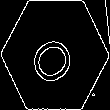O_NE: (26, 24, 84, 86)
